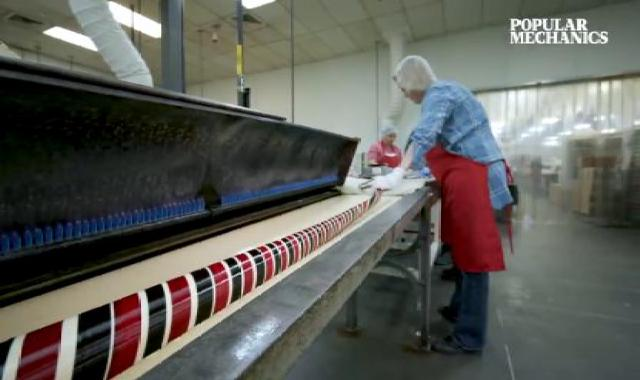hairnet: (392, 52, 441, 96), (382, 126, 400, 143)
